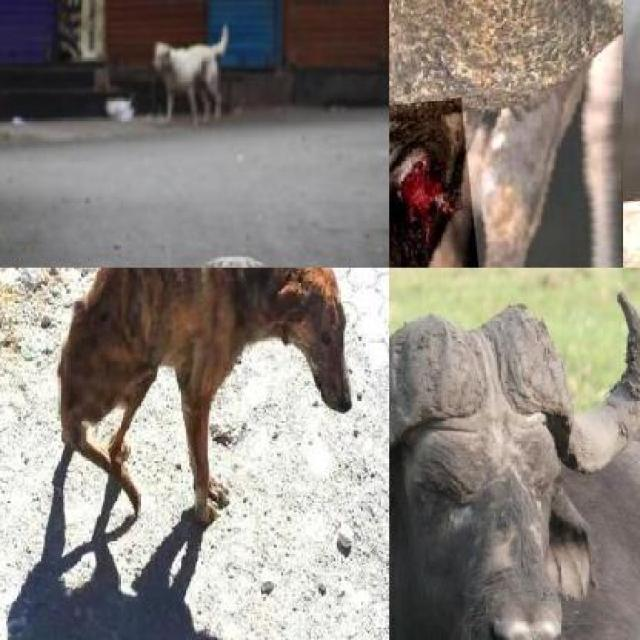buffalo: (389, 294, 640, 640), (389, 0, 623, 268)
dog: (0, 268, 385, 537), (148, 38, 238, 142)
injured: (52, 268, 171, 494), (389, 97, 480, 268)
